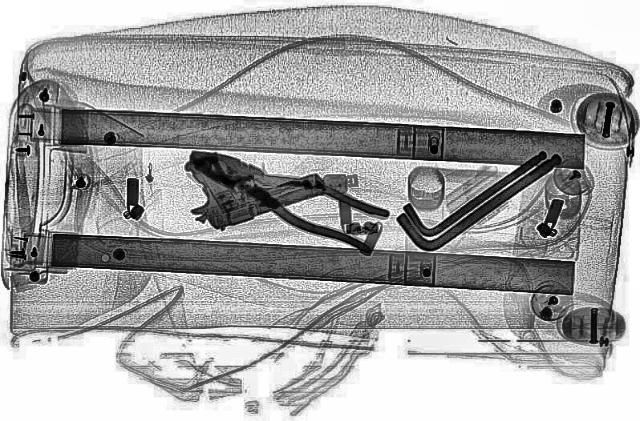Gun: (150, 130, 334, 234)
Pliers: (165, 131, 409, 259)
